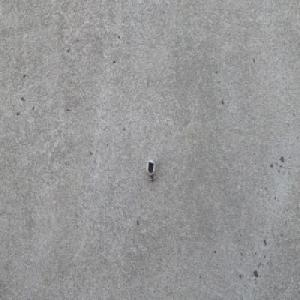MetalPart: (145, 159, 156, 184)
